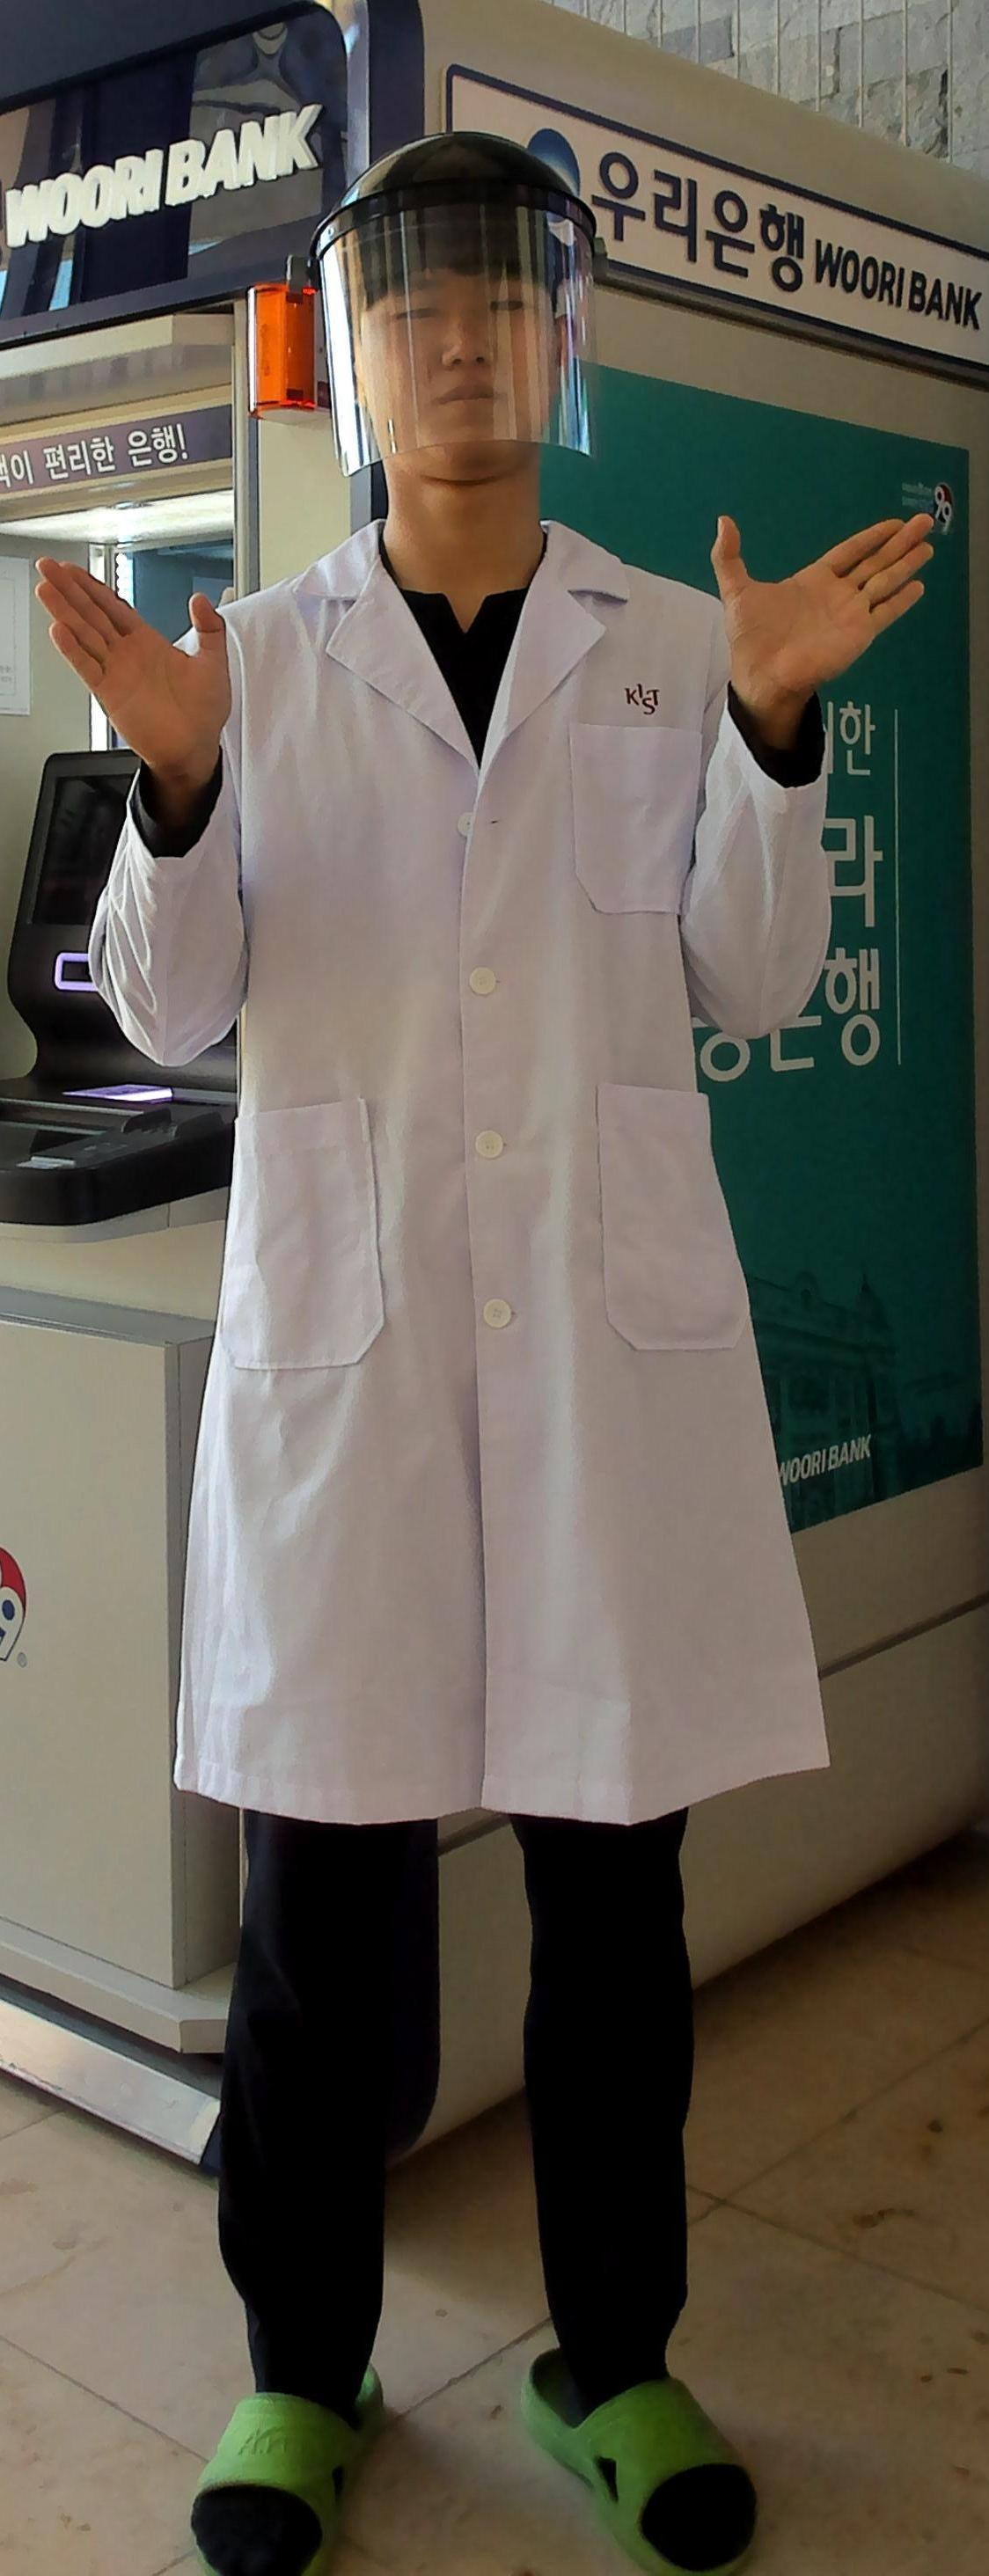lab_coat: (223, 595, 710, 1799)
